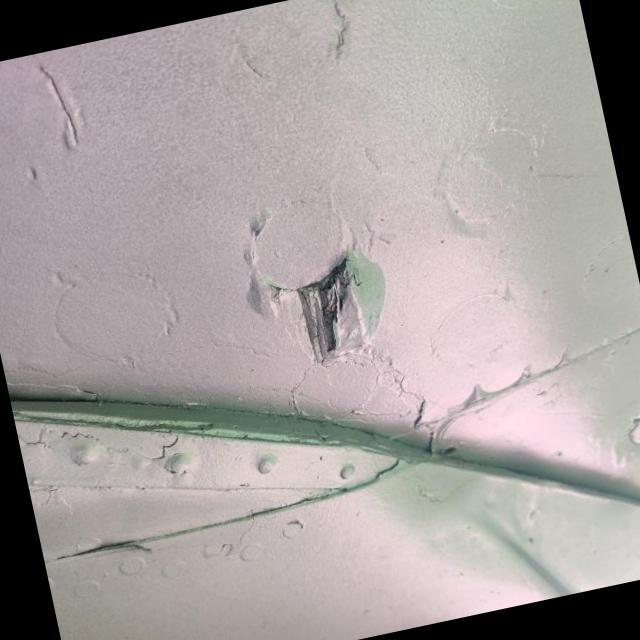Paint-off: (297, 249, 386, 361)
